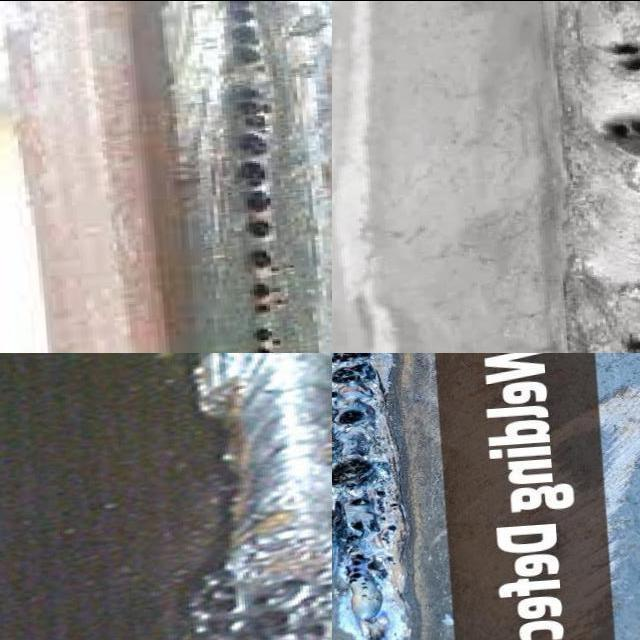defect: (217, 0, 283, 315), (192, 565, 332, 640), (342, 549, 397, 603), (594, 33, 640, 74), (332, 454, 377, 491), (596, 114, 640, 146), (249, 321, 285, 352), (341, 519, 366, 545), (613, 330, 640, 352), (332, 407, 362, 426), (332, 497, 346, 529), (348, 497, 372, 506), (379, 535, 392, 544), (388, 501, 403, 508), (376, 514, 390, 521), (385, 524, 397, 532), (374, 490, 387, 497), (332, 389, 338, 399)
